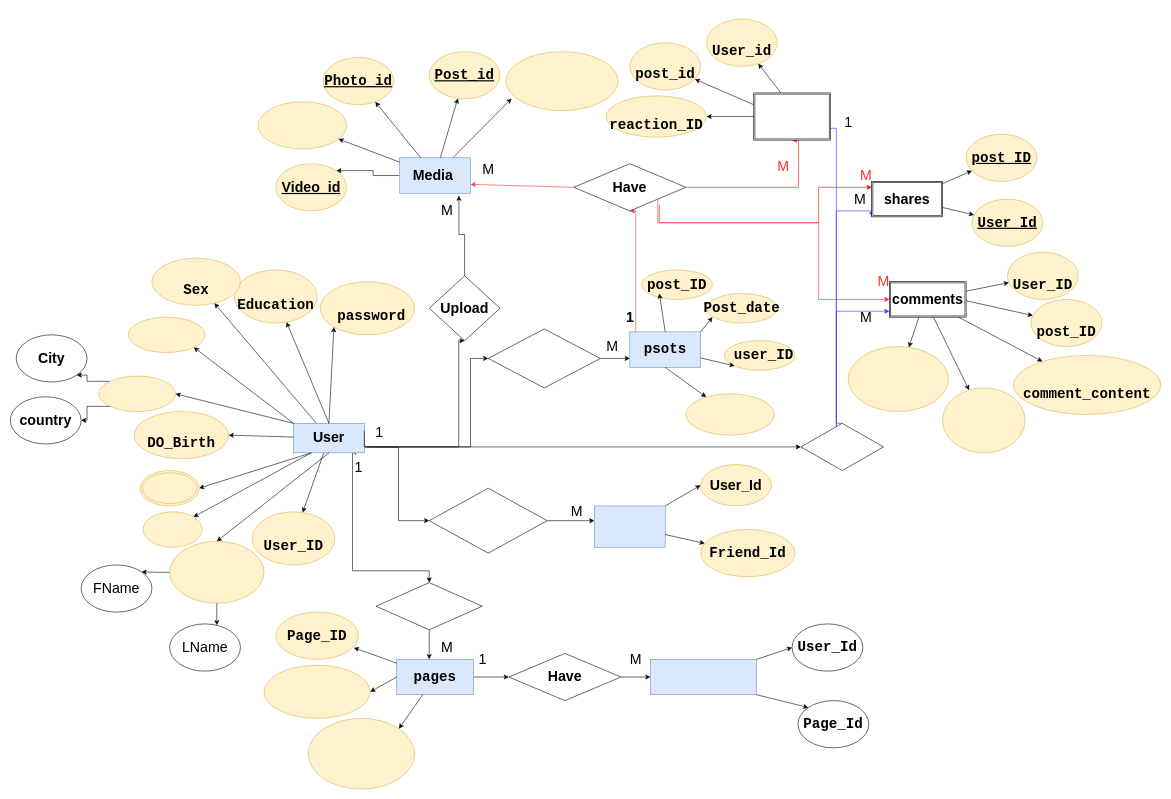
This 1171x799 diagram has some shape labels left out. Each missing label, with the centre of its shape:
"Address" belongs at point (137, 394).
"comment_date" belongs at point (898, 379).
"comment_ID" belongs at point (983, 420).
"connect" belongs at point (488, 520).
"Creat" belongs at point (544, 358).
"Friends" belongs at point (629, 526).
"Likes" belongs at point (429, 606).
"mail" belongs at point (172, 529).
"Make" belongs at point (842, 447).
"Media_Type" belongs at point (302, 125).
"Mobile" belongs at point (169, 488).
"Page_Content" belongs at point (361, 753).
"Page_Likes" belongs at point (703, 677).
"Page_name" belongs at point (316, 691).
"photo_content" belongs at point (561, 81).
"post_content" belongs at point (729, 414).
"Reactions" belongs at point (791, 116).
"Status" belongs at point (166, 335).
"user_name" belongs at point (216, 572).
